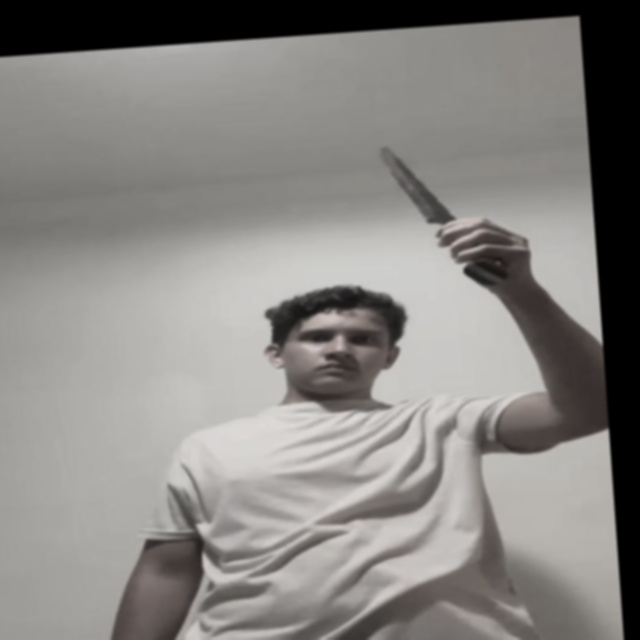Sharp-Object: (380, 145, 448, 227)
